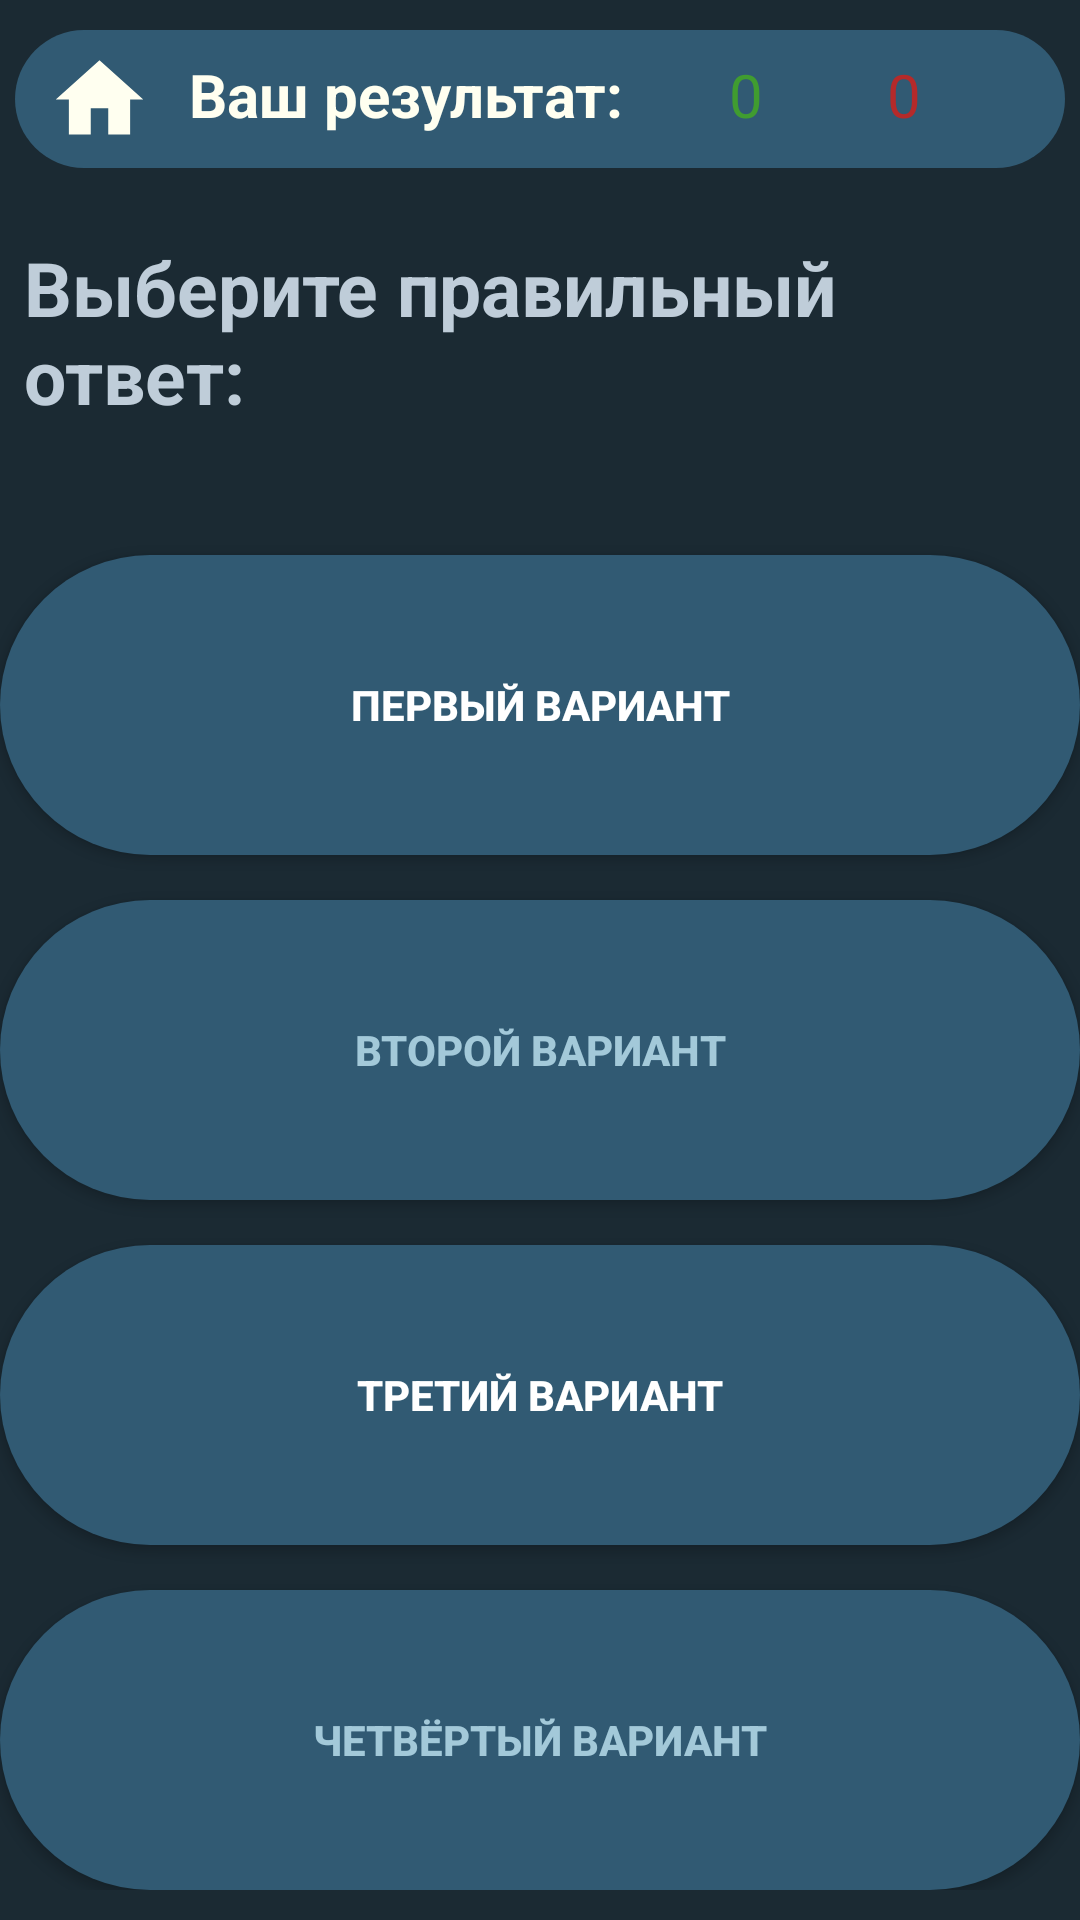

Icon bounding boxes for this 1080px x 1920px phone screenshot, format box=[x1, y1, x2, y2]:
home: box=[56, 60, 143, 135]
